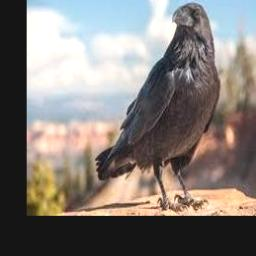Crow: (96, 2, 219, 211)
